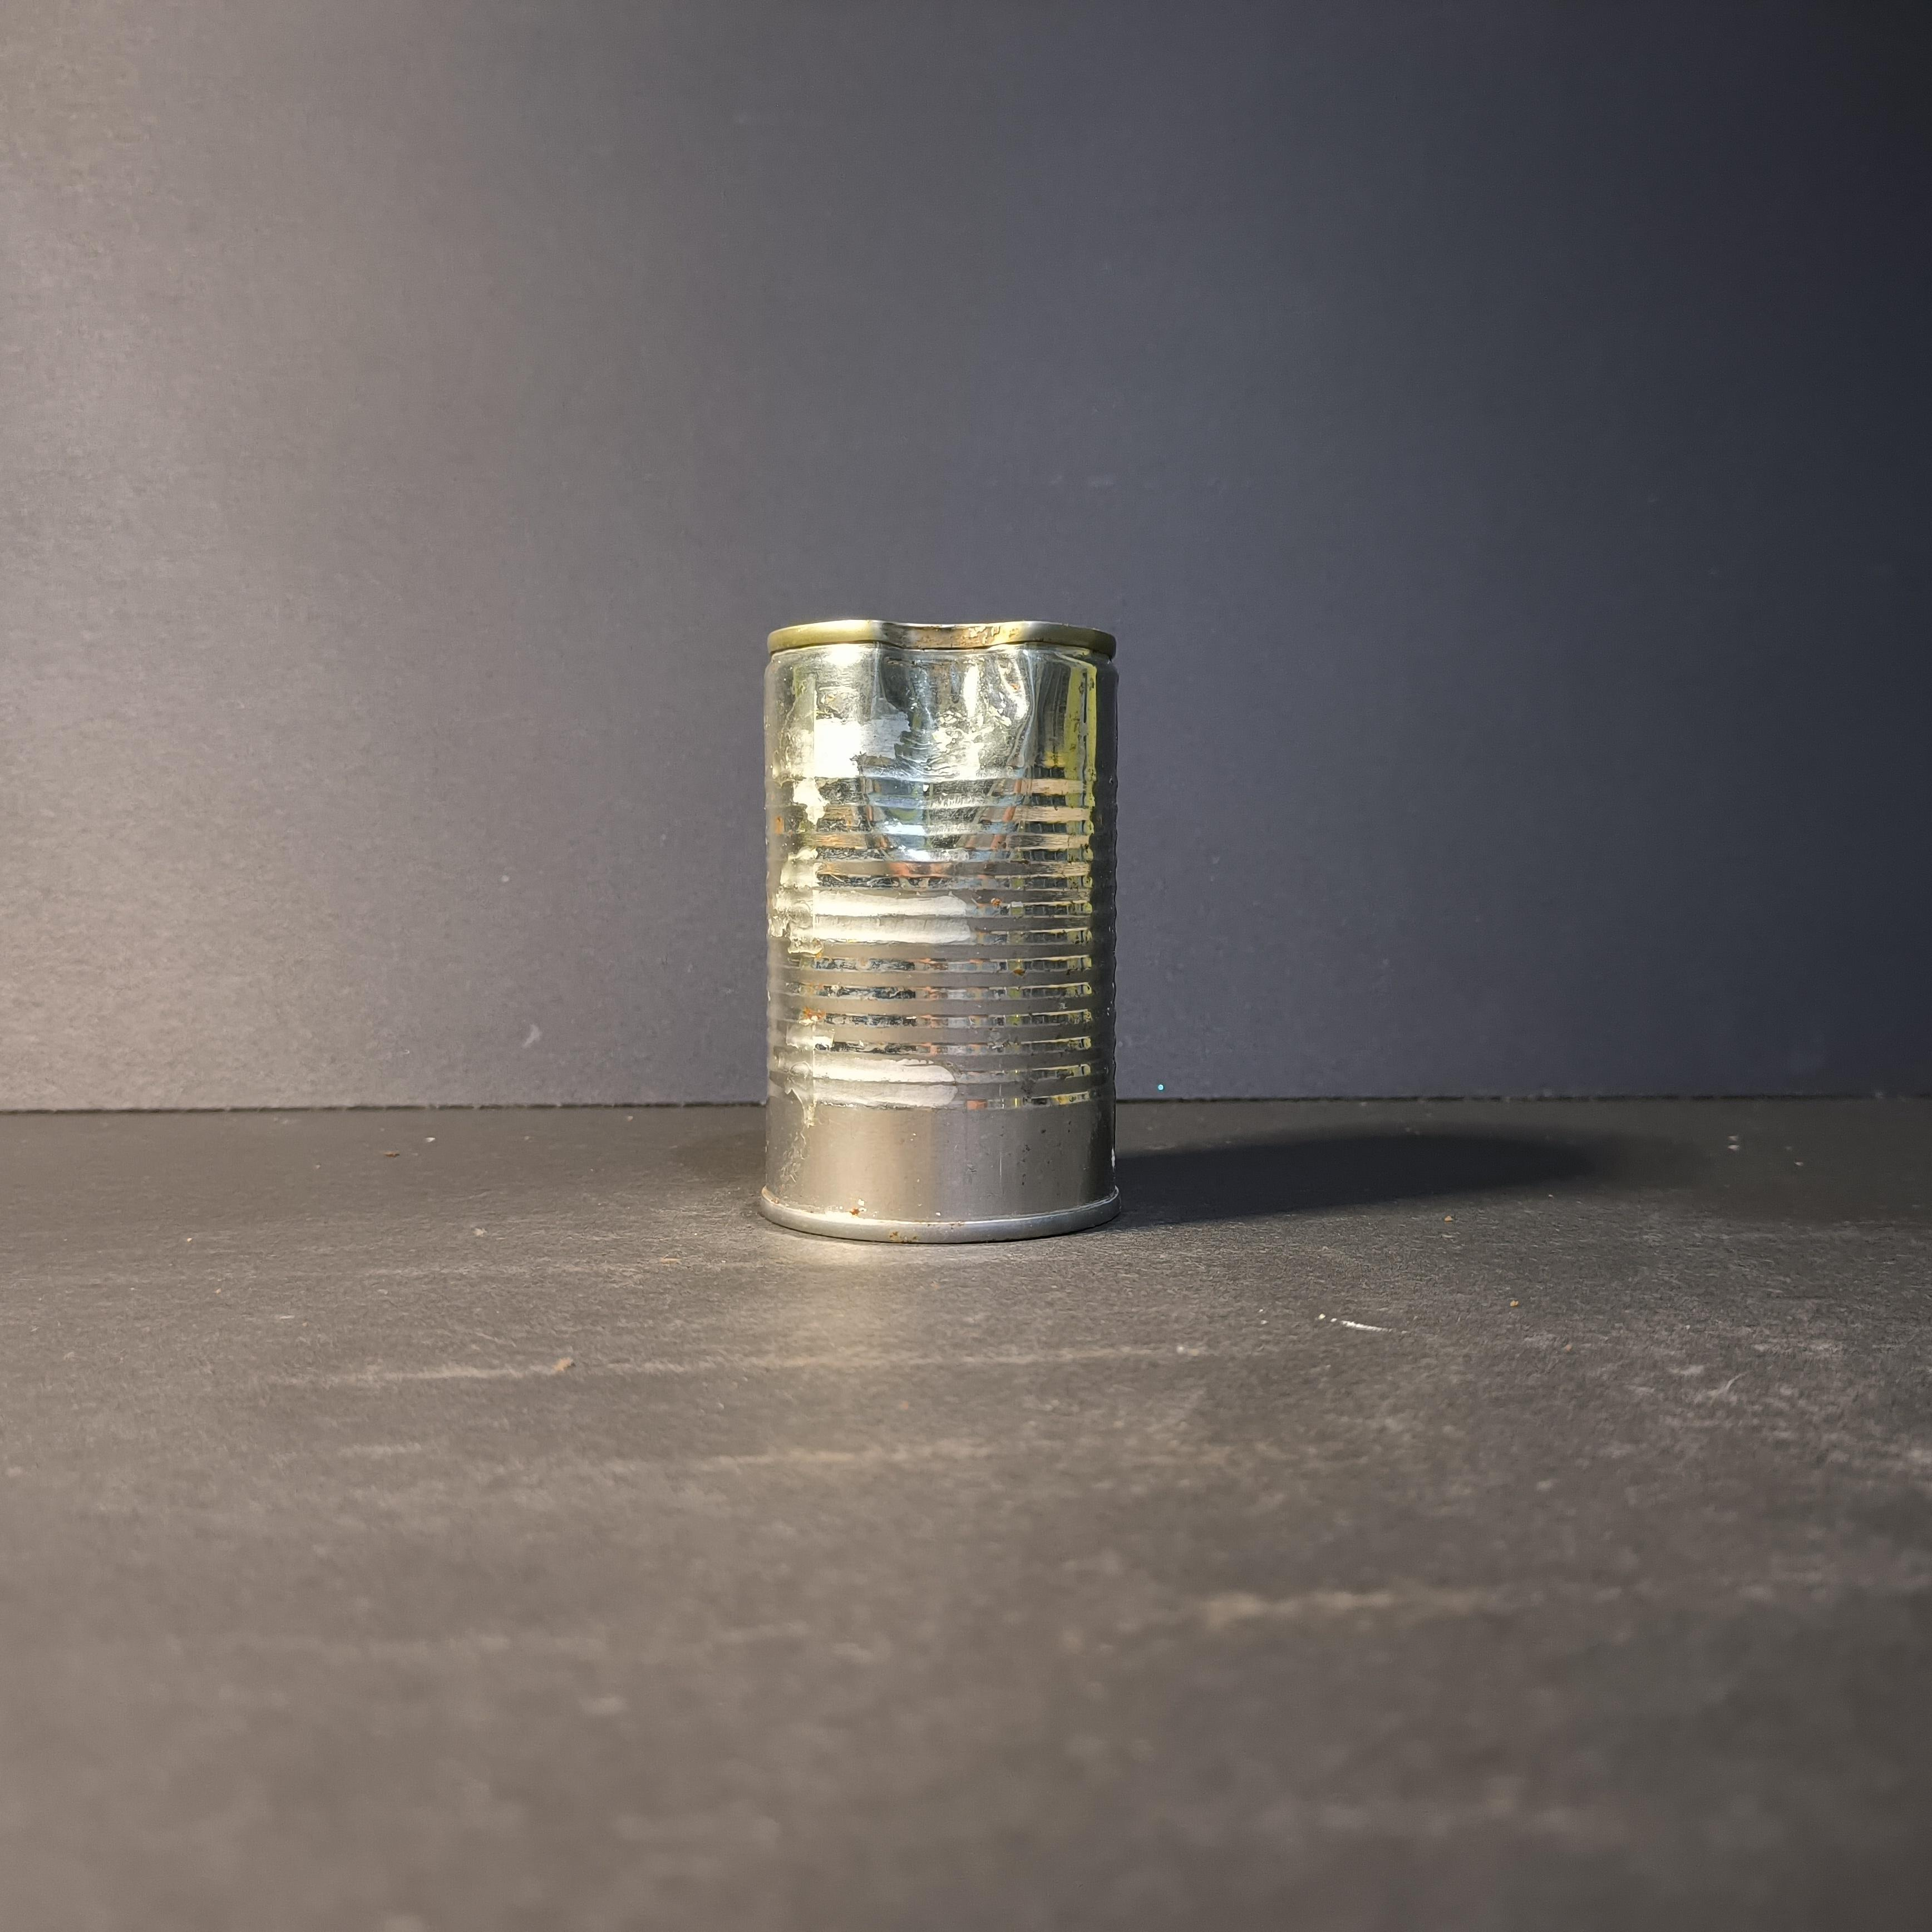Dented: (724, 577, 1146, 1292)
